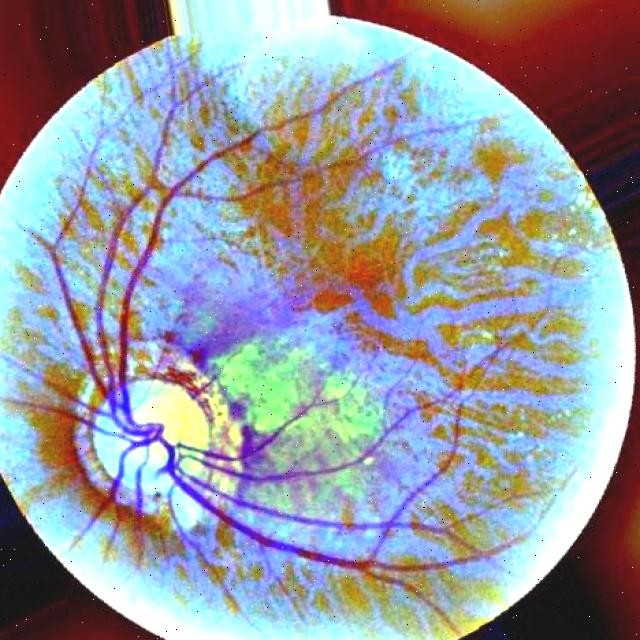Macula: (302, 257, 402, 327)
Nerves: (157, 446, 516, 572), (53, 188, 156, 432), (119, 183, 178, 449)
Optic Disk: (74, 336, 237, 531)
